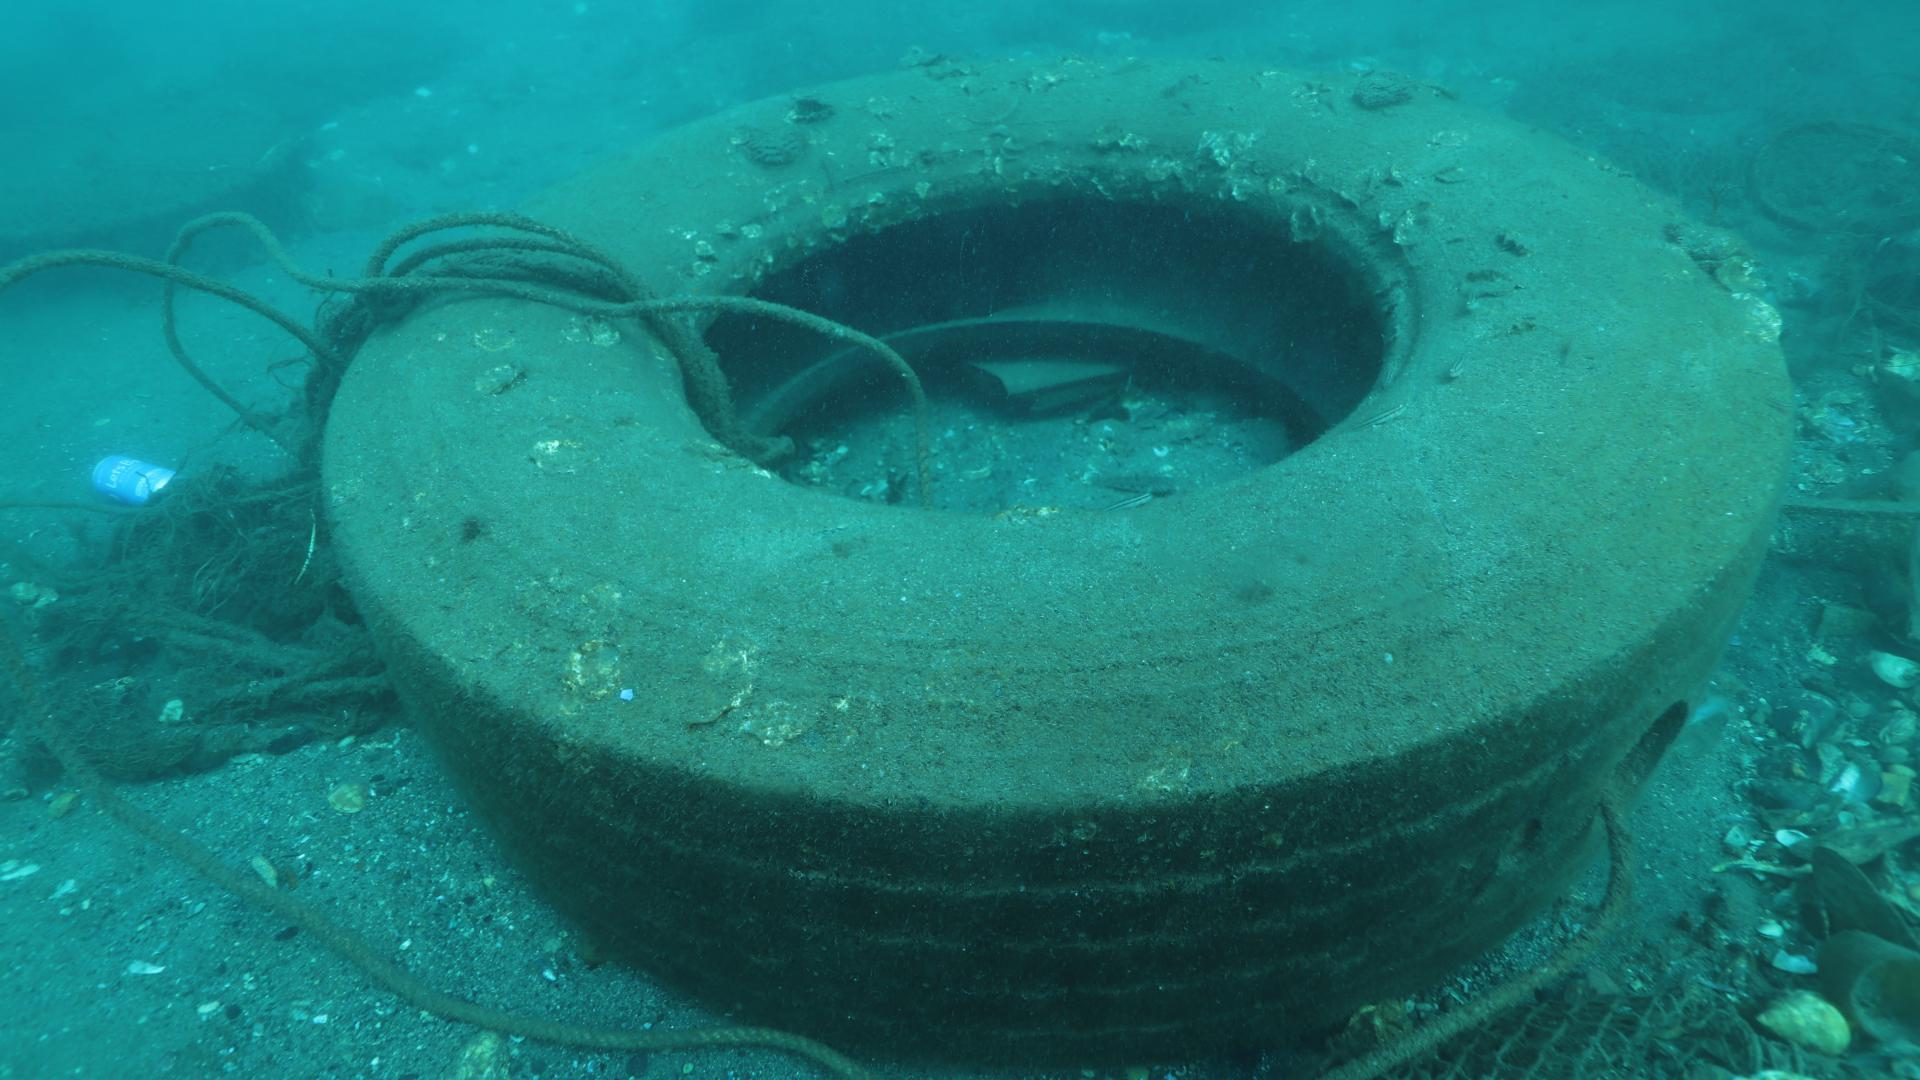bundle of ropes: (0, 199, 942, 787)
rope: (0, 642, 874, 1080), (1340, 785, 1623, 1080)
tire: (319, 55, 1796, 1069)
